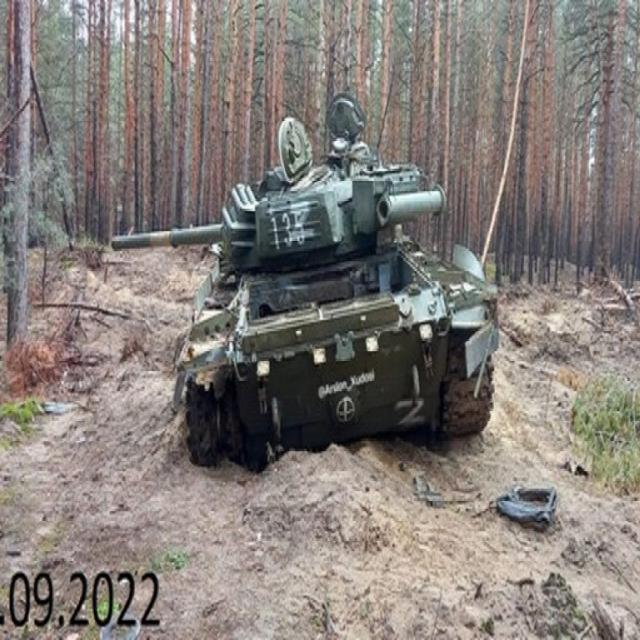TANK: (111, 91, 502, 476)
